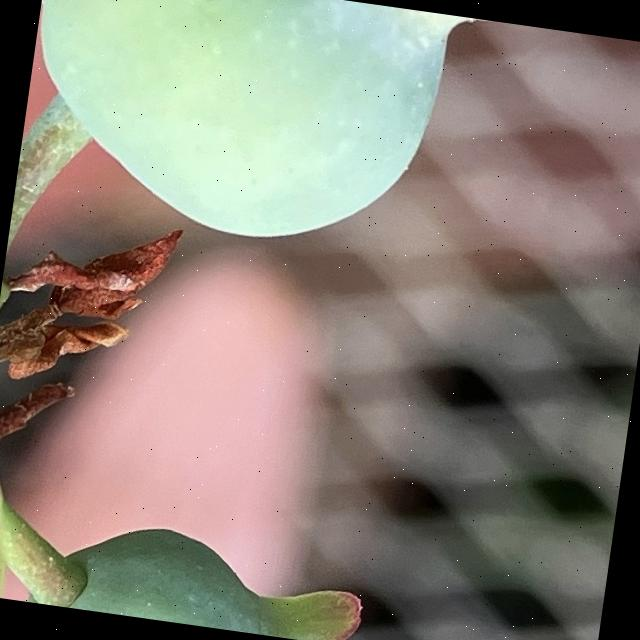Blueberries: (12, 0, 548, 282)
